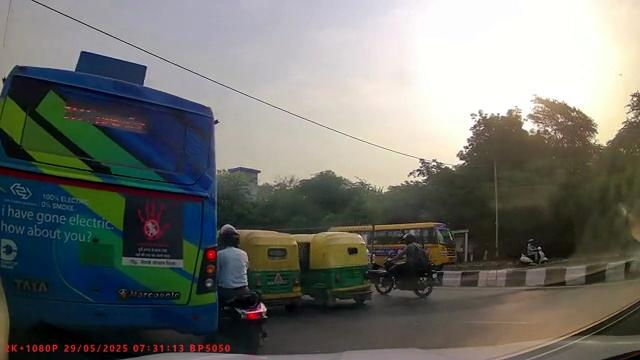motorcycle_with_helmet: (217, 221, 269, 354), (374, 231, 437, 298)
